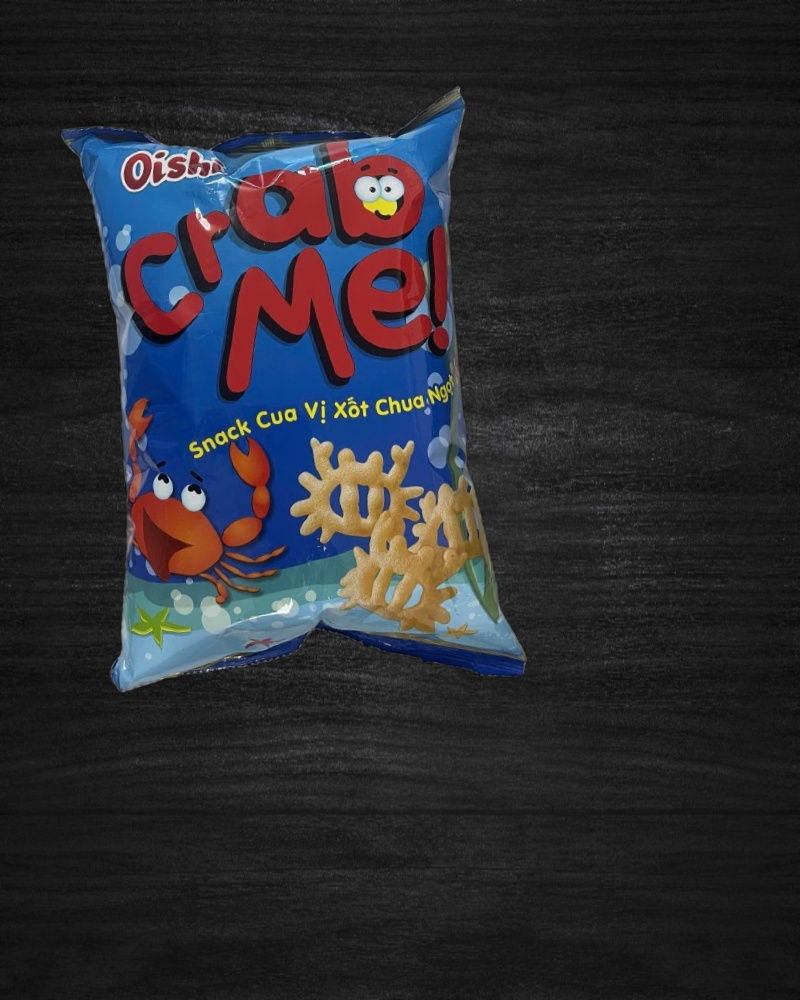Snack cua: (60, 85, 528, 706)
